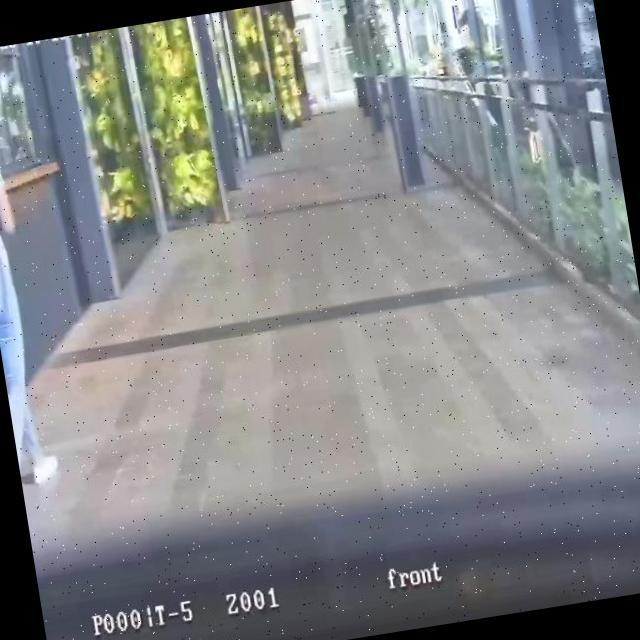person: (0, 72, 66, 508)
